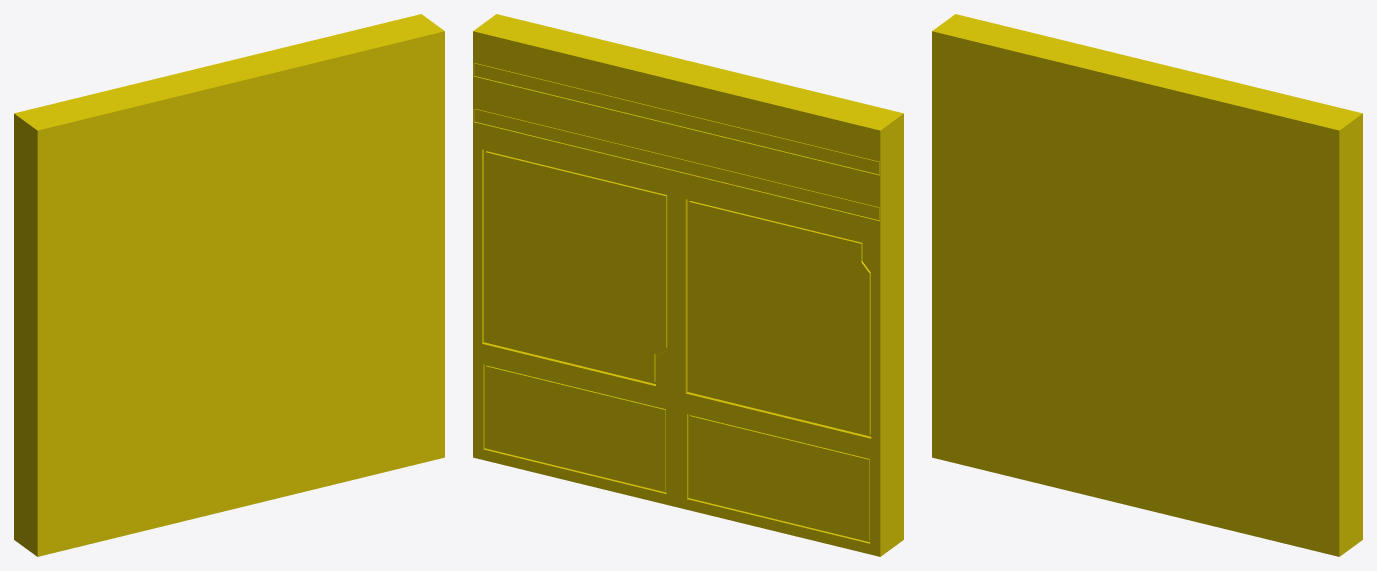
File: wall.fbx
The picture shows the model from 3 angles, left to right: view 1: azimuth 30°, elevation 25°; view 2: azimuth 150°, elevation 25°; view 3: azimuth 330°, elevation 25°; orthographic projection.
Parts seen in each view (by area): view 1: wall.010; view 2: wall.010; view 3: wall.010.
Boxes of the visible parts, <box> form: wall.010: <box>14,14,444,556</box>; wall.010: <box>473,14,903,556</box>; wall.010: <box>932,14,1362,556</box>.
Bounding box in the file's own units: 400 × 400 × 40.
